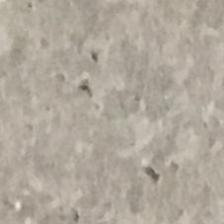Non_Crack: (21, 40, 221, 223)
